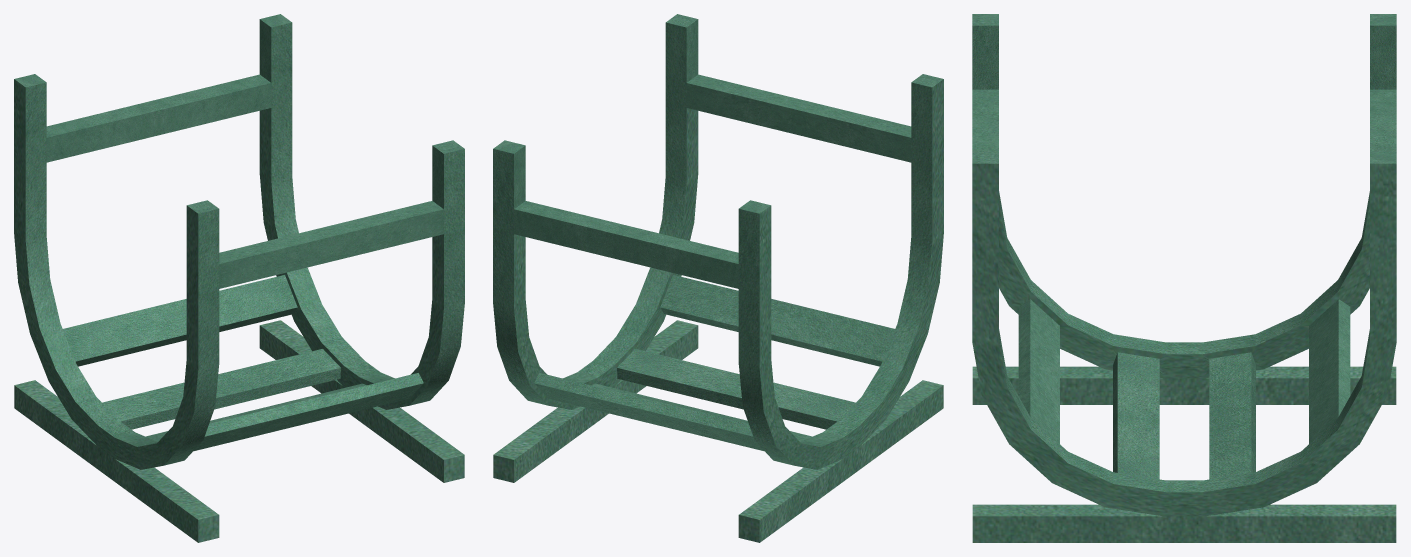
The model's file is Wood_Holder.fbx.
The picture shows the model from 3 angles, left to right: view 1: azimuth 30°, elevation 25°; view 2: azimuth 150°, elevation 25°; view 3: azimuth 270°, elevation 25°; orthographic projection. The views are drawn at different scales.
Parts seen in each view (by area): view 1: Wood_Holder; view 2: Wood_Holder; view 3: Wood_Holder.
Boxes of the visible parts, x1,y1,x2,y2 form: Wood_Holder: (14,14,464,542); Wood_Holder: (493,14,943,542); Wood_Holder: (972,14,1396,542).
Size of the model in its own units: 50.45 by 59.54 by 60.37.
